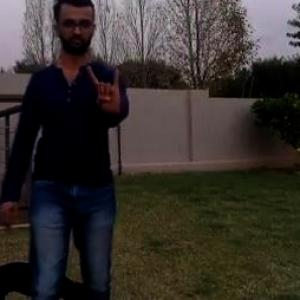takeoff-hand: (76, 56, 132, 120)
